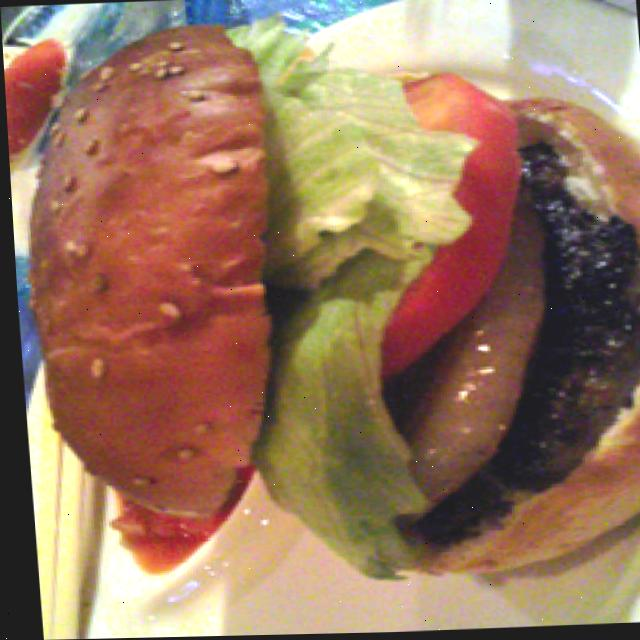汉堡快餐: (1, 10, 640, 596)
